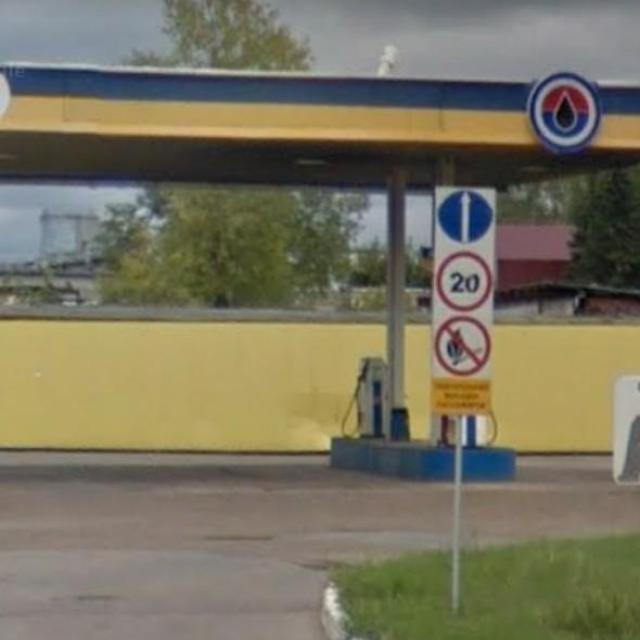forb_speed_over_20: (433, 247, 497, 316)
